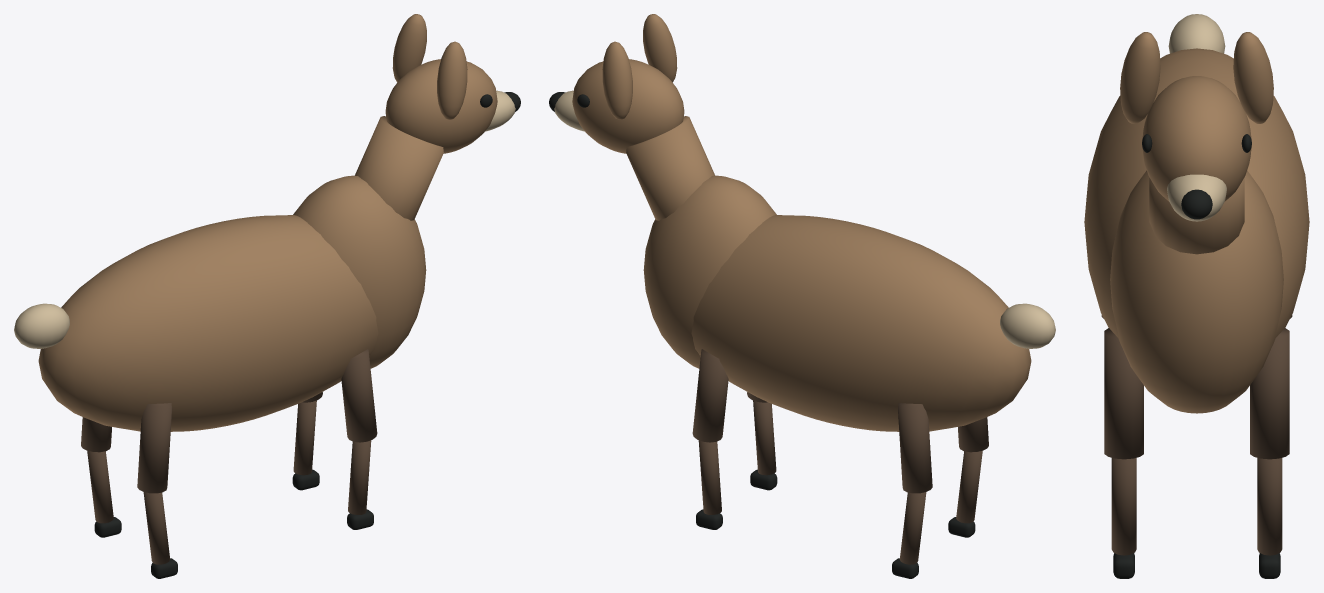
File: deer_v6.glb
The picture shows the model from 3 angles, left to right: view 1: azimuth 30°, elevation 25°; view 2: azimuth 150°, elevation 25°; view 3: azimuth 270°, elevation 25°; orthographic projection. The views are drawn at different scales.
Parts seen in each view (by area): view 1: Deer_Body, Deer_Chest, Deer_Head, Deer_Neck, Deer_UpperLeg_0, Deer_UpperLeg_2, Deer_Tail, Deer_Ear_-1, Deer_Ear_1, Deer_LowerLeg_2, Deer_LowerLeg_3, Deer_LowerLeg_0 (+2 smaller); view 2: Deer_Body, Deer_Chest, Deer_Head, Deer_Neck, Deer_UpperLeg_1, Deer_UpperLeg_3, Deer_Tail, Deer_Ear_1, Deer_Ear_-1, Deer_LowerLeg_2, Deer_LowerLeg_3, Deer_LowerLeg_1 (+2 smaller); view 3: Deer_Chest, Deer_Body, Deer_Head, Deer_UpperLeg_2, Deer_UpperLeg_3, Deer_Neck, Deer_Ear_-1, Deer_Ear_1, Deer_LowerLeg_2, Deer_LowerLeg_3, Deer_Tail, Deer_Muzzle (+3 smaller).
Boxes of the visible parts, <box> form: Deer_Body: <box>38,215,378,431</box>; Deer_Chest: <box>293,175,426,368</box>; Deer_Head: <box>385,59,497,153</box>; Deer_Neck: <box>355,116,443,220</box>; Deer_UpperLeg_0: <box>137,403,171,493</box>; Deer_UpperLeg_2: <box>341,349,377,442</box>; Deer_Tail: <box>14,303,69,348</box>; Deer_Ear_-1: <box>437,41,467,119</box>; Deer_Ear_1: <box>392,14,426,82</box>; Deer_LowerLeg_2: <box>348,440,371,514</box>; Deer_LowerLeg_3: <box>293,400,316,475</box>; Deer_LowerLeg_0: <box>143,492,170,564</box>; Deer_Body: <box>691,215,1031,431</box>; Deer_Chest: <box>643,175,776,368</box>; Deer_Head: <box>572,59,684,153</box>; Deer_Neck: <box>626,116,714,220</box>; Deer_UpperLeg_1: <box>898,403,932,493</box>; Deer_UpperLeg_3: <box>692,349,728,442</box>; Deer_Tail: <box>1000,303,1055,348</box>; Deer_Ear_1: <box>602,41,632,119</box>; Deer_Ear_-1: <box>643,14,677,82</box>; Deer_LowerLeg_2: <box>753,400,776,475</box>; Deer_LowerLeg_3: <box>698,440,721,514</box>; Deer_LowerLeg_1: <box>899,492,926,564</box>; Deer_Chest: <box>1110,170,1283,413</box>; Deer_Body: <box>1084,48,1309,345</box>; Deer_Head: <box>1142,76,1251,201</box>; Deer_UpperLeg_2: <box>1104,328,1143,459</box>; Deer_UpperLeg_3: <box>1250,328,1289,459</box>; Deer_Neck: <box>1149,177,1244,254</box>; Deer_Ear_-1: <box>1120,32,1160,123</box>; Deer_Ear_1: <box>1233,32,1273,123</box>; Deer_LowerLeg_2: <box>1111,458,1136,555</box>; Deer_LowerLeg_3: <box>1257,458,1282,555</box>; Deer_Tail: <box>1168,14,1225,53</box>; Deer_Muzzle: <box>1167,174,1226,221</box>.
Size of the model in its own units: 2.89 by 2.49 by 0.8352.
